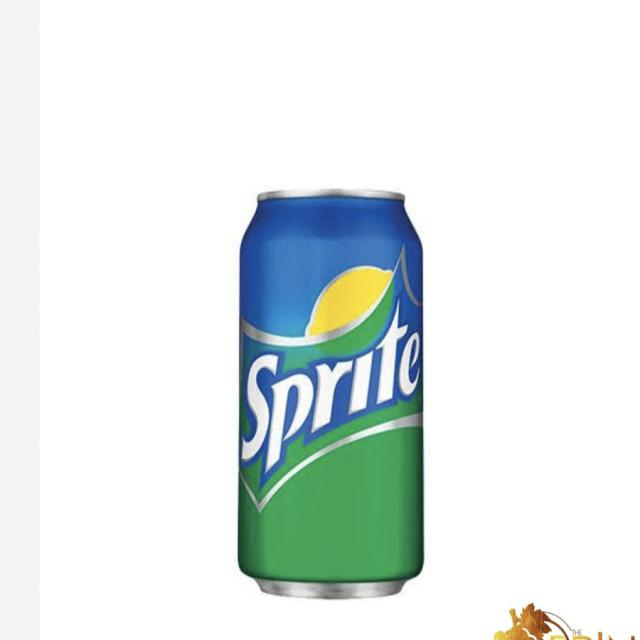recyclable: (219, 151, 439, 611)
